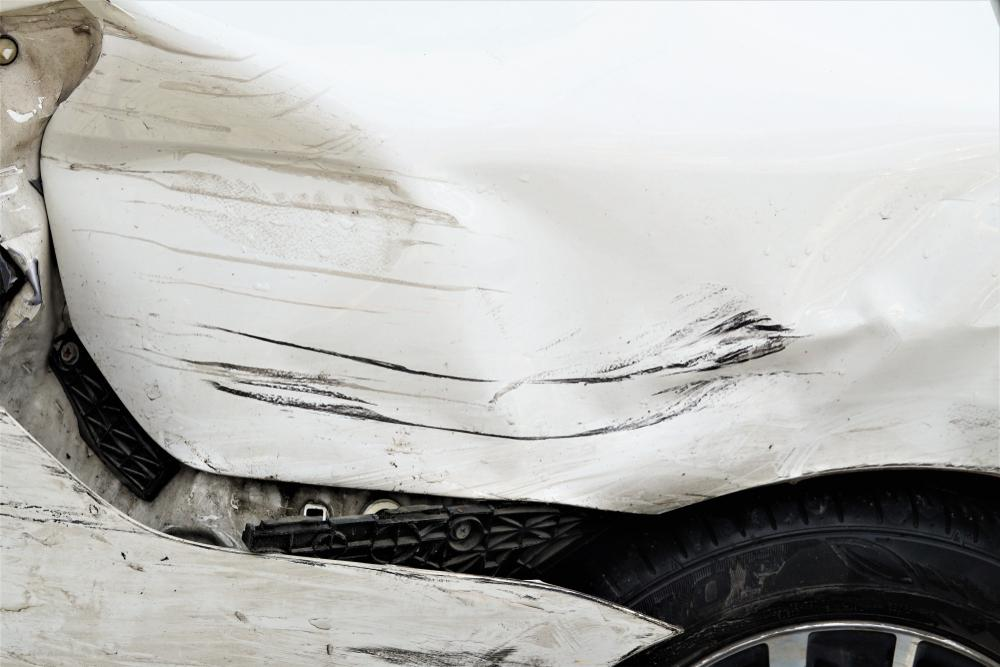scratch: (0, 404, 684, 667), (116, 196, 594, 447)
